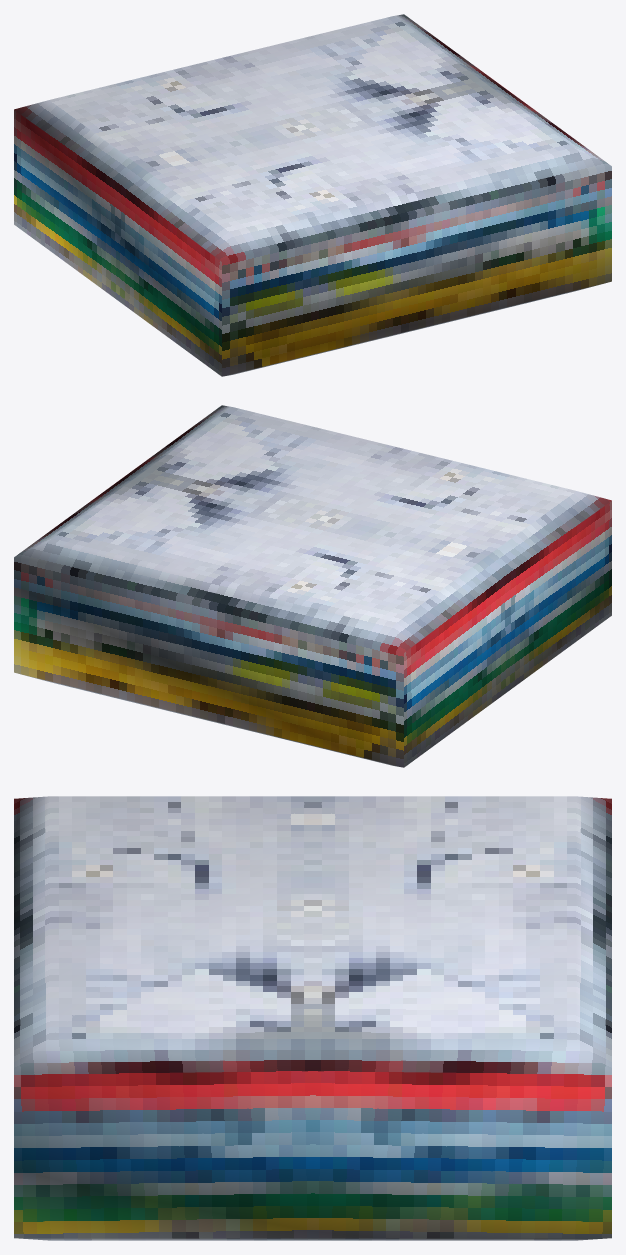
The model's file is ClothesPile.glb.
3 views of the same model, one above another, from view 1: azimuth 30°, elevation 25°; view 2: azimuth 150°, elevation 25°; view 3: azimuth 270°, elevation 25° (orthographic). The views are drawn at different scales.
Parts seen in each view (by area): view 1: clothes pile; view 2: clothes pile; view 3: clothes pile.
Boxes of the visible parts, left/top/right/bottom form: clothes pile: left=14, top=14, right=611, bottom=376; clothes pile: left=14, top=405, right=611, bottom=767; clothes pile: left=14, top=796, right=611, bottom=1240.
Bounding box in the file's own units: 0.26 × 0.09 × 0.24.
Materials: 1 (1 with a texture image).
